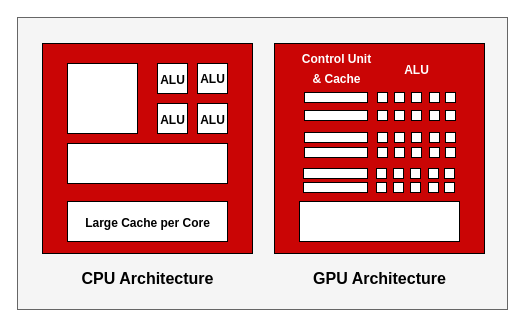
This 525x327 diagram has some shape labels left out. The centre of each missing label's shape, as x and y in pixels:
"Control" goes at point 102,98.
"DRAM" goes at point 147,162.
"Shared Memory" goes at point 379,221.
